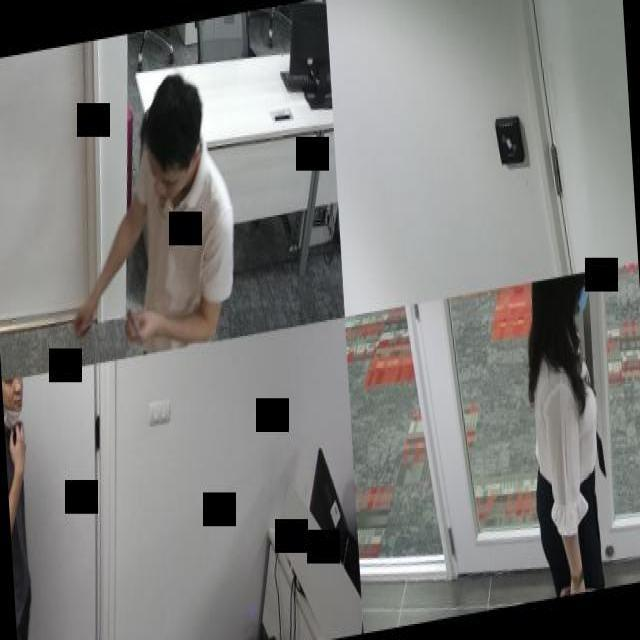hairnet: (2, 376, 26, 428)
